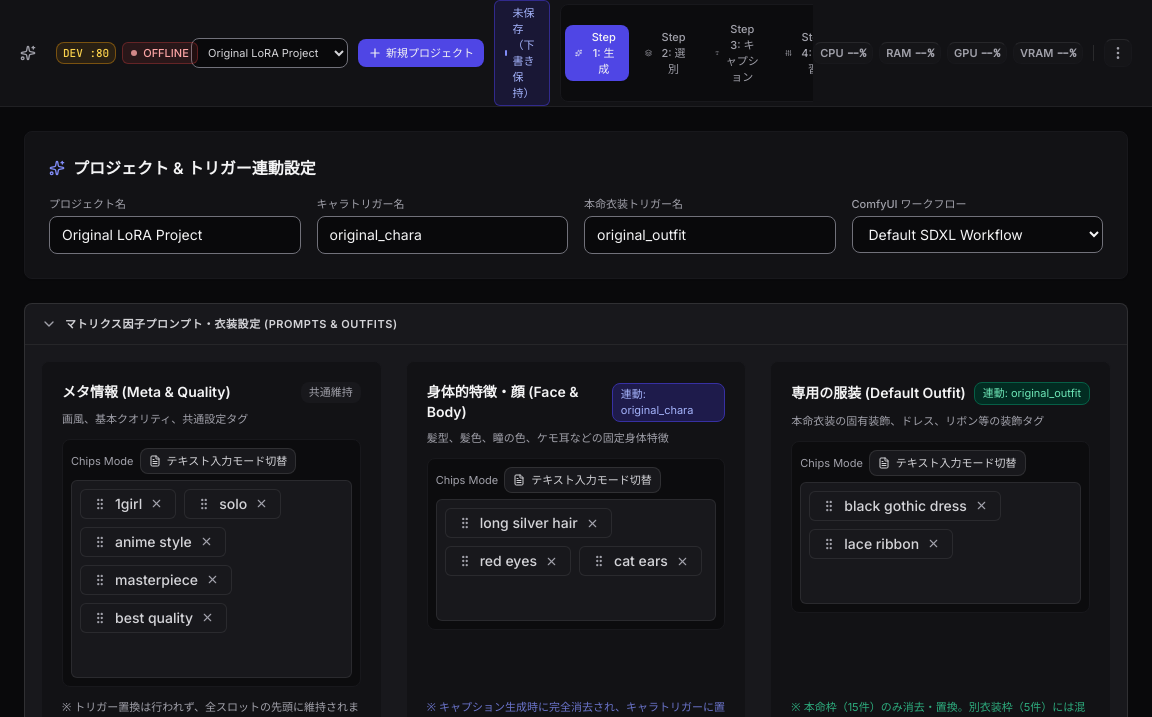
REQ-323: E2E Autosave & Draft Recovery Lifecycle Suite › Test 1 (AC-1, Red Team 3): Project Creation & Error Recovery › creates a new project immediately and reflects it in the header; preserves inputs on failure
// Open creation modal
Click the button with test id "open-create-project-modal-btn": click(421, 53) left=358, top=39, right=484, bottom=67
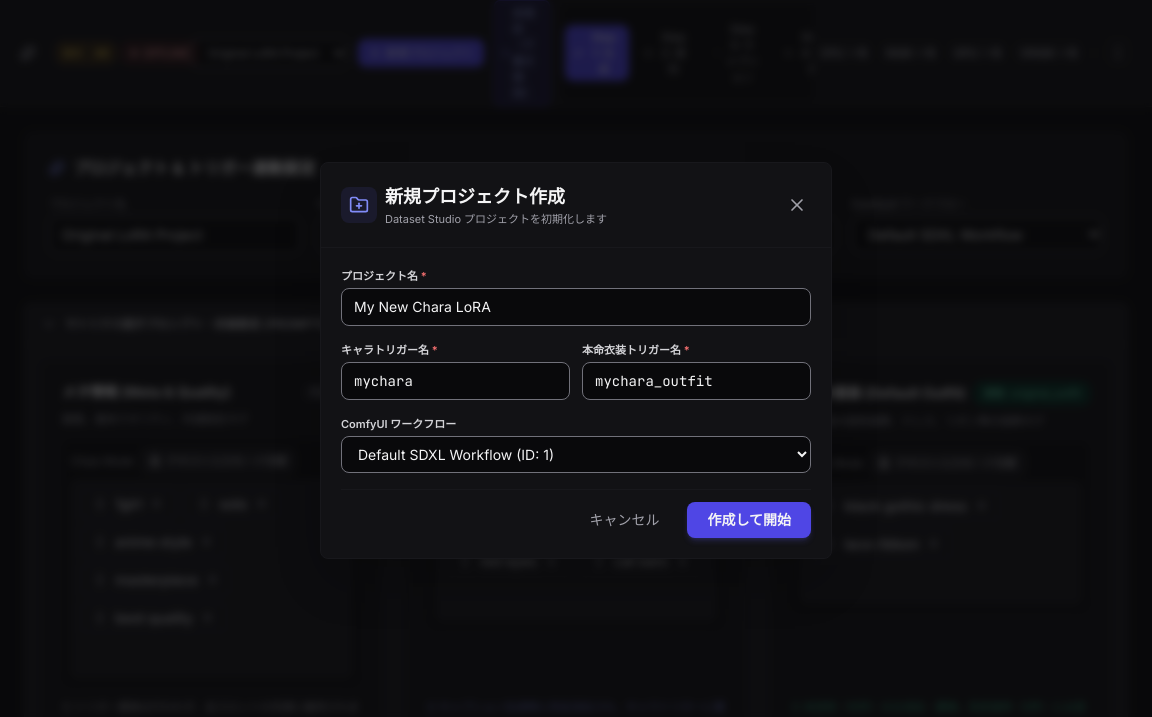
Now the element with test id "create-project-modal" is shown, box left=320, top=162, right=832, bottom=558
// Fill in project details
Replace the text in the field with test id "create-project-name-input" with "Candidate Project": (576, 306) left=341, top=288, right=811, bottom=326
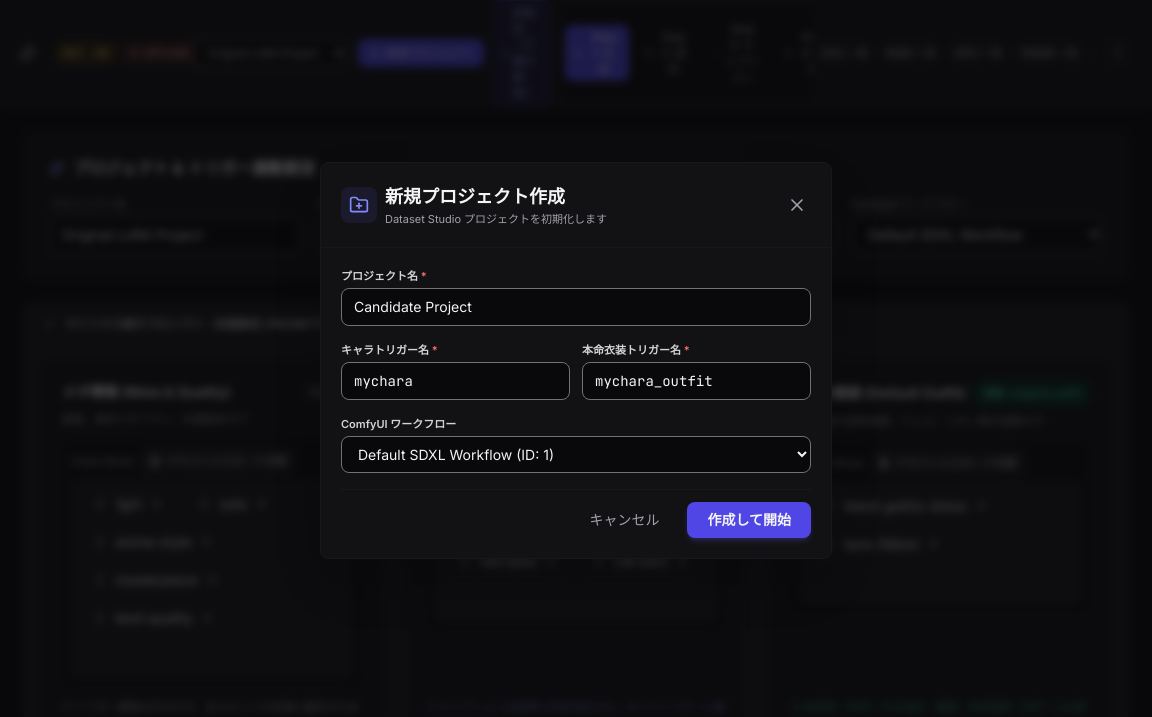
Replace the text in the field with test id "create-character-trigger-input" with "candidate_trigger": (456, 380) left=341, top=362, right=570, bottom=400
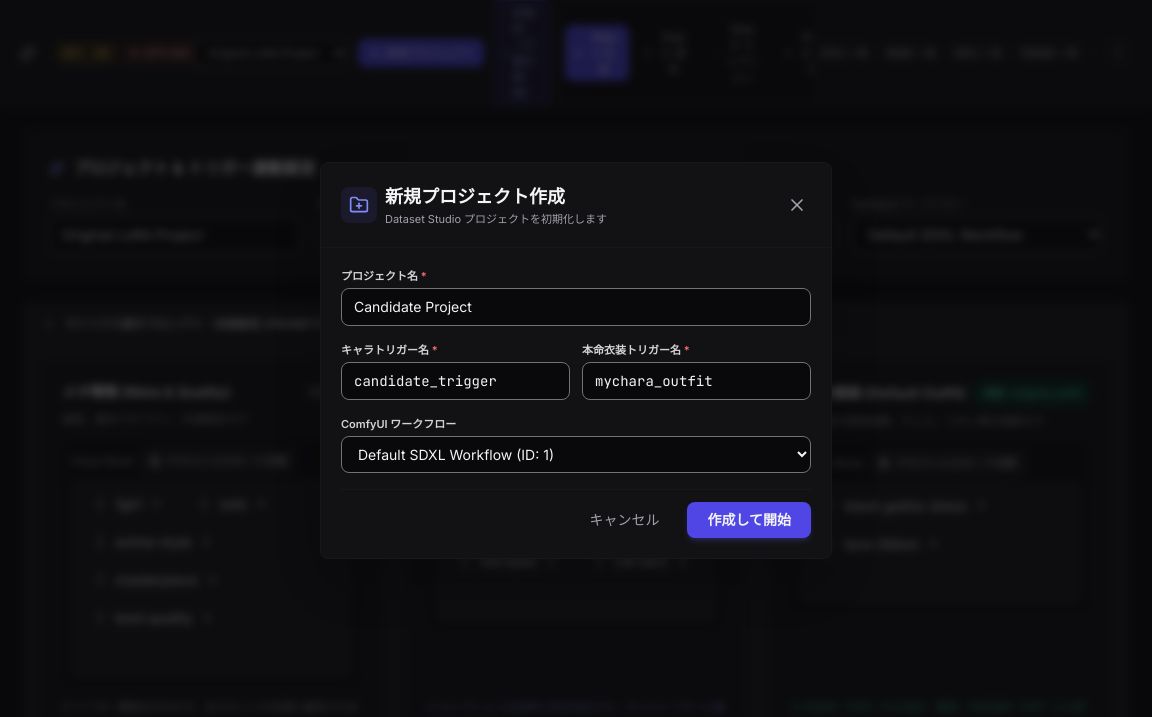
Replace the text in the field with test id "create-outfit-trigger-input" with "candidate_outfit": (696, 380) left=582, top=362, right=811, bottom=400
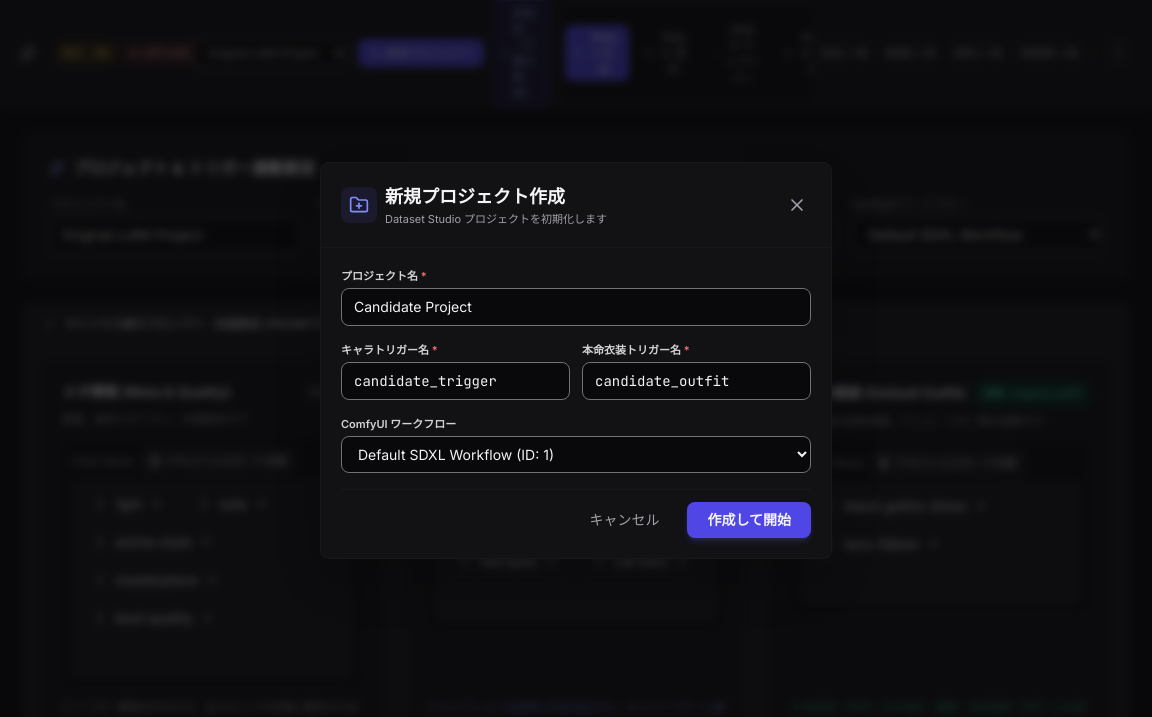
Click the button with test id "submit-create-project-btn": click(749, 520) left=687, top=502, right=811, bottom=538
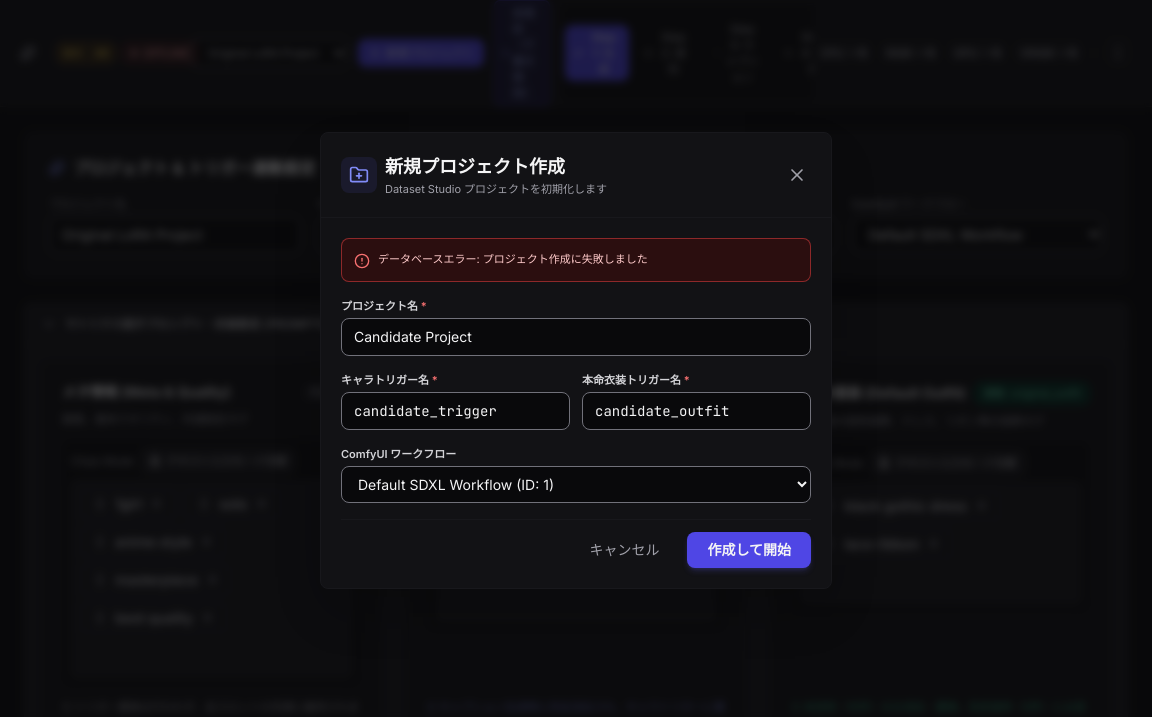
Now the element with test id "create-project-error" is shown, box left=341, top=238, right=811, bottom=282
Now the element with test id "create-project-error" reads "データベースエラー: プロジェクト作成に失敗しました", box left=378, top=252, right=648, bottom=266
Click the button with test id "submit-create-project-btn": click(749, 550) left=687, top=532, right=811, bottom=568
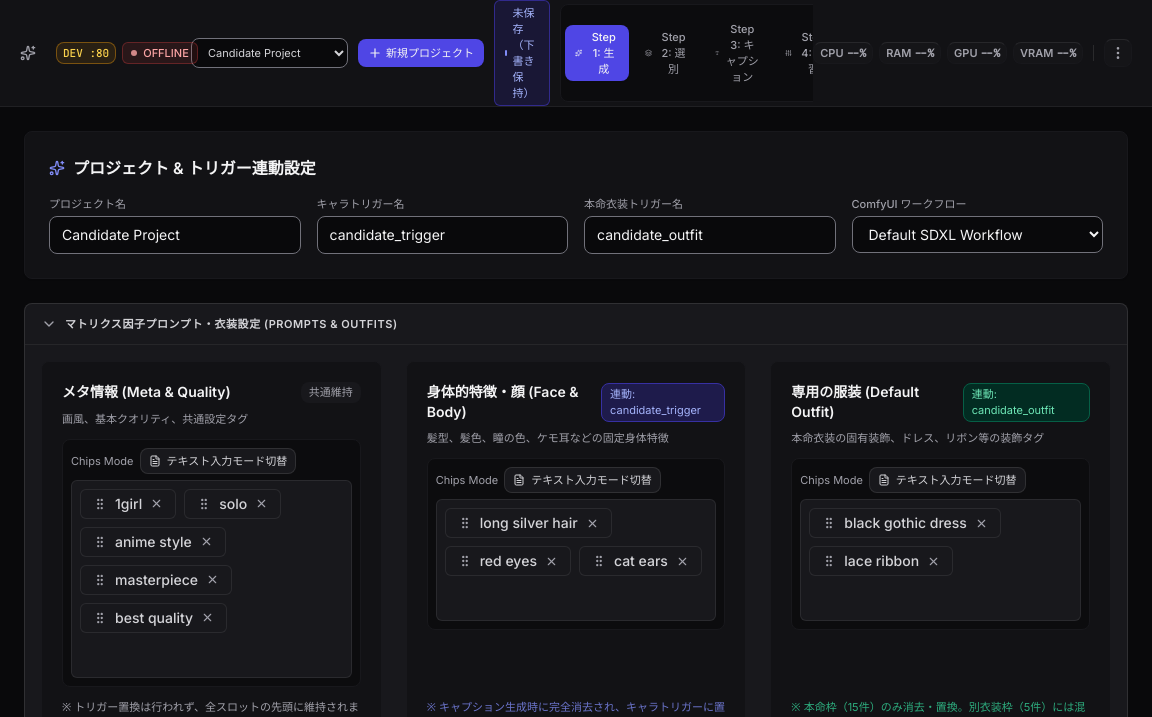
Now the element with test id "create-project-modal" is gone
Now the dropdown with test id "project-selector" shows "Candidate Project", box left=191, top=38, right=348, bottom=68
